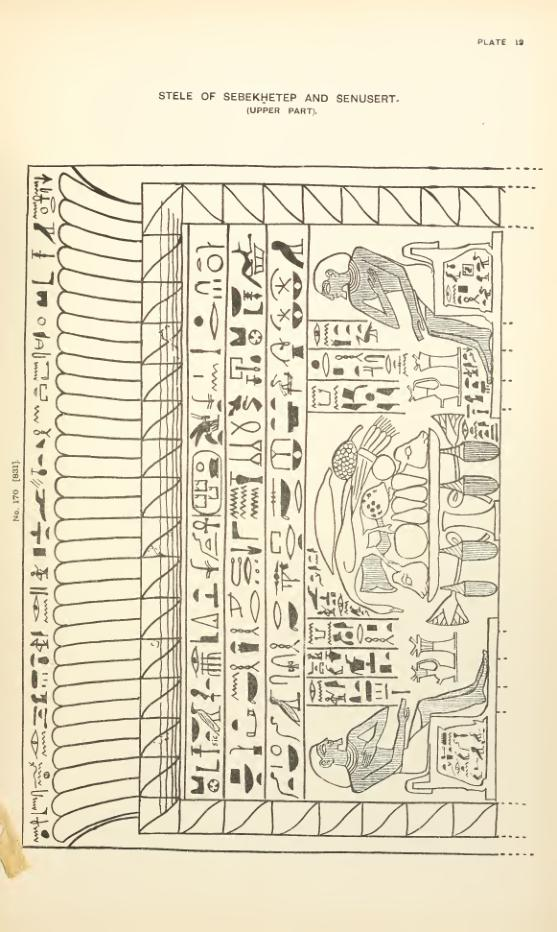circle: (190, 449, 224, 521)
